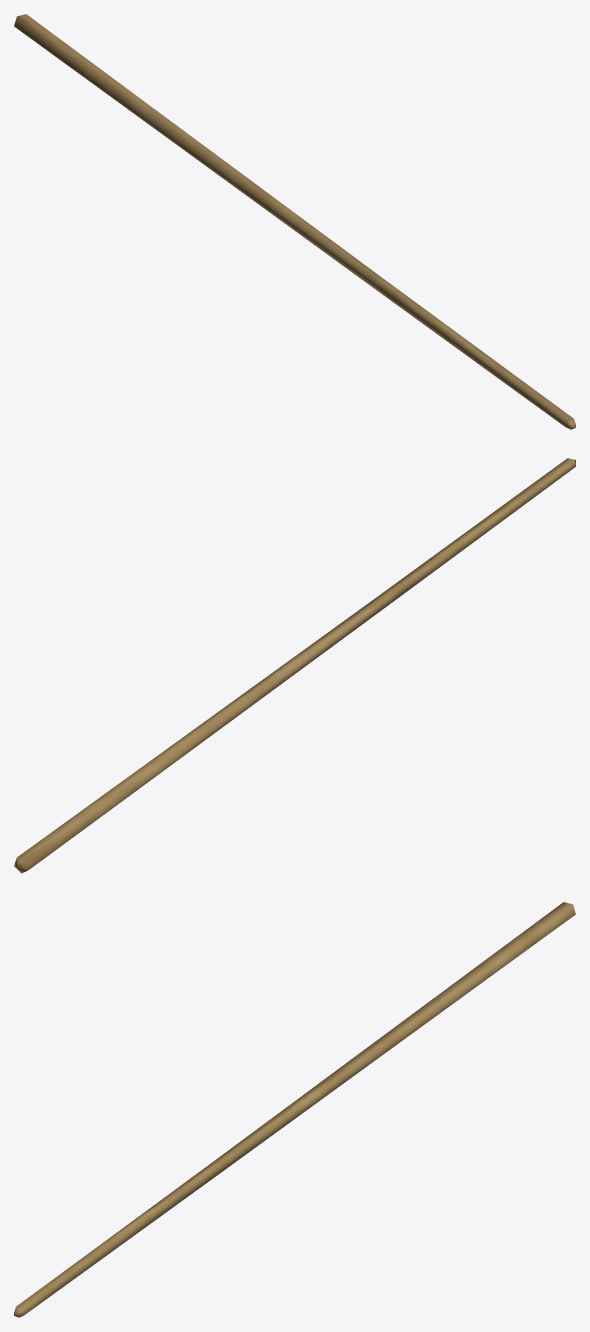
The model's file is teacherStick.glb.
3 renders of one model, top to bottom at view 1: azimuth 30°, elevation 25°; view 2: azimuth 150°, elevation 25°; view 3: azimuth 330°, elevation 25°, orthographic.
Visible parts, largest first — view 1: teacherStick; view 2: teacherStick; view 3: teacherStick.
Part boxes in pixels (box(x1,y1,x2,y2)): teacherStick: box(14, 14, 575, 429); teacherStick: box(14, 458, 575, 873); teacherStick: box(14, 902, 575, 1317).
Size of the model in its own units: 0.0146 by 0.0139 by 0.9268.
1 material, 1 textured.
